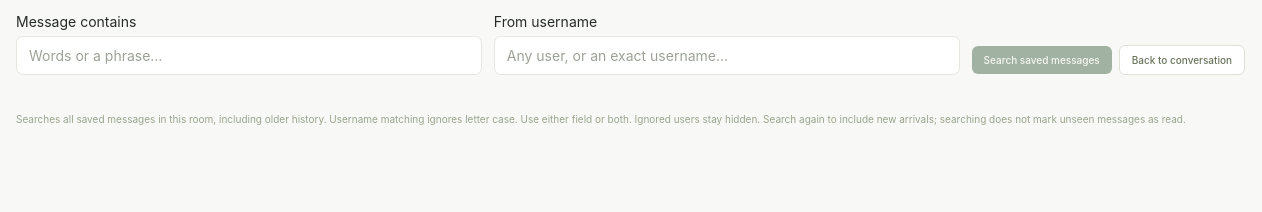
Test: drops stale results when ignore rules or history change
The image size is (1262, 212).
Type "Alice" into the field named "Search messages from user" at (727, 56), box [494,36,960,75]
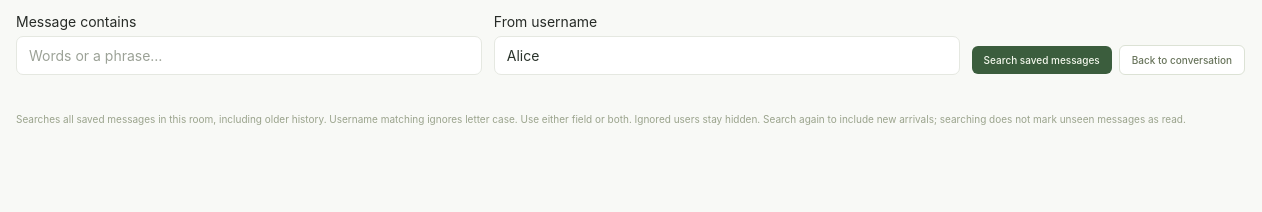
Click the button "Search saved messages" at (1042, 60), box [972,46,1112,74]
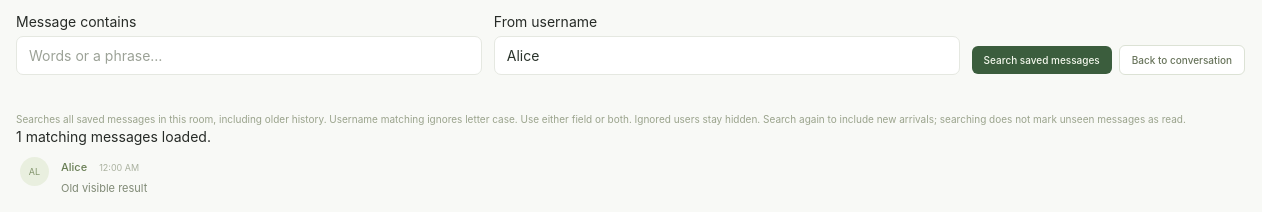
Now the text "Old visible result" is shown, box [61,181,147,195]
